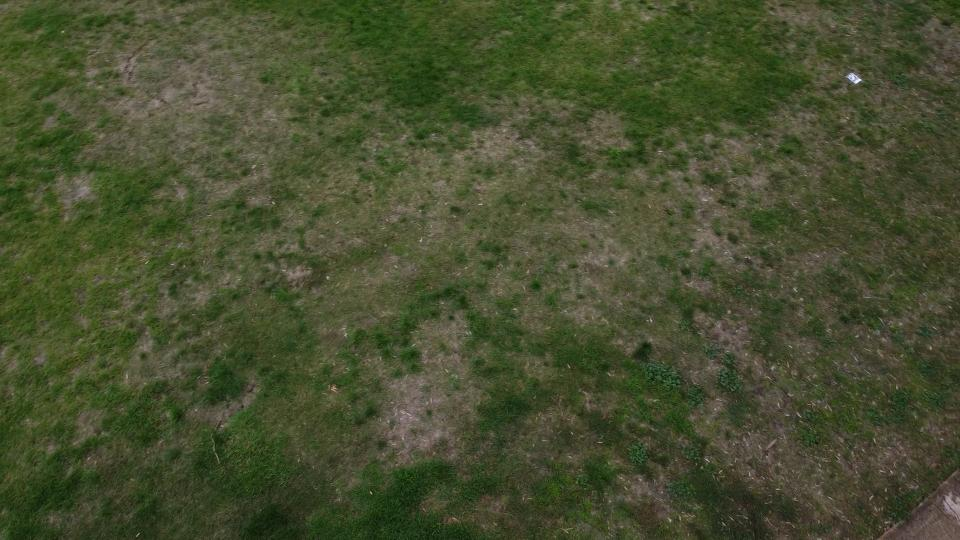aruco: (846, 73, 859, 82)
